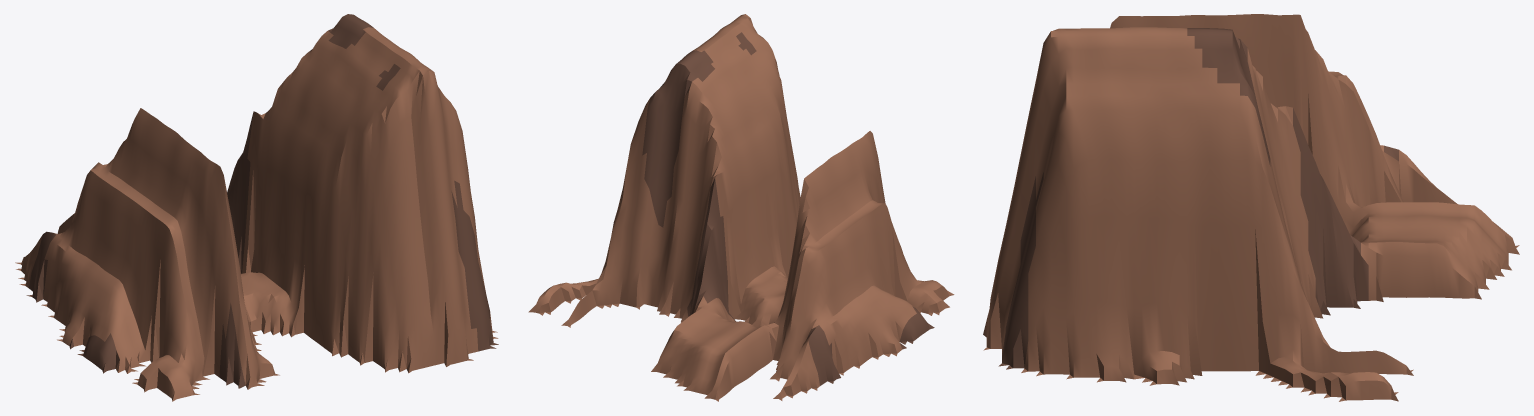
File: fulgoran-ruin-big.glb
3 renders of one model, left to right at view 1: azimuth 30°, elevation 25°; view 2: azimuth 150°, elevation 25°; view 3: azimuth 270°, elevation 25°, orthographic. The views are drawn at different scales.
Visible parts, largest first — view 1: body; view 2: body; view 3: body.
Part boxes in pixels (x1=…): body: x1=15, y1=14, x2=498, y2=401; body: x1=528, y1=14, x2=954, y2=401; body: x1=983, y1=14, x2=1519, y2=401.
Bounding box in the file's own units: 4.2 × 2.84 × 4.44.
